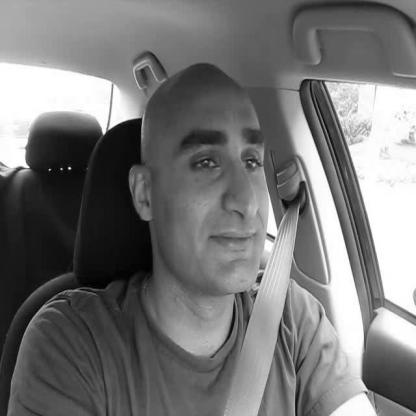seatbelt: (120, 60, 288, 416)
